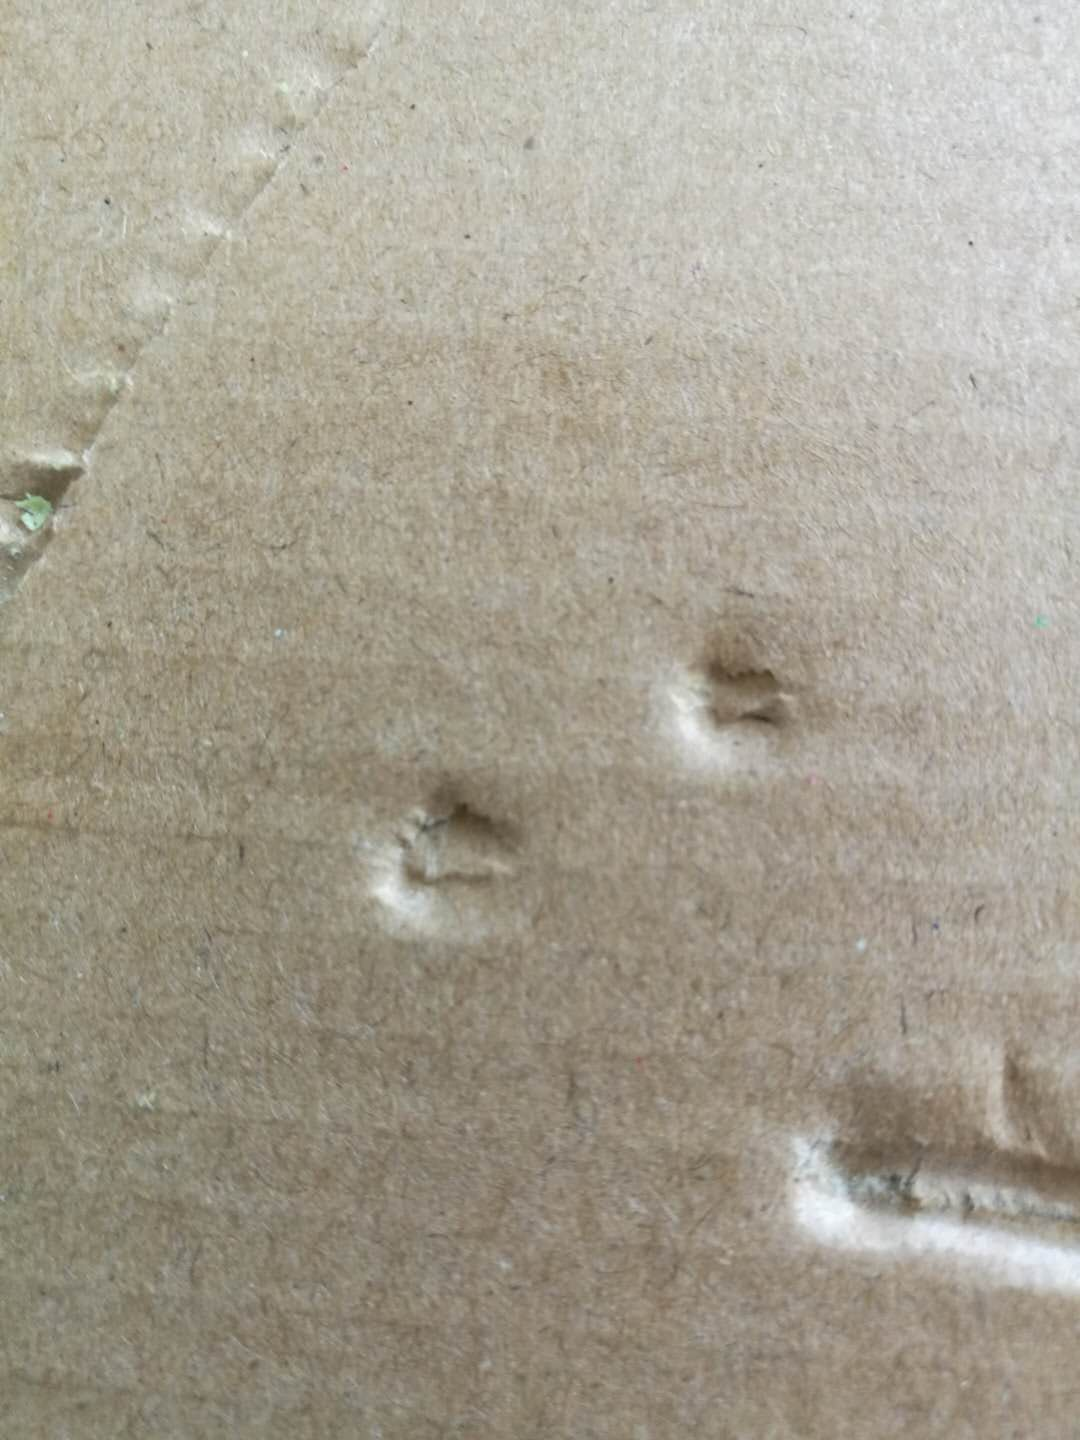defect: (5, 5, 448, 644), (740, 1022, 1080, 1310), (341, 753, 579, 973), (631, 599, 855, 804)
